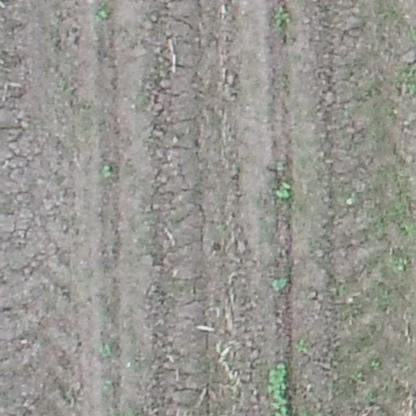vc: (269, 363, 290, 415), (269, 272, 292, 292), (273, 179, 294, 200), (93, 8, 110, 22), (100, 161, 111, 181)
